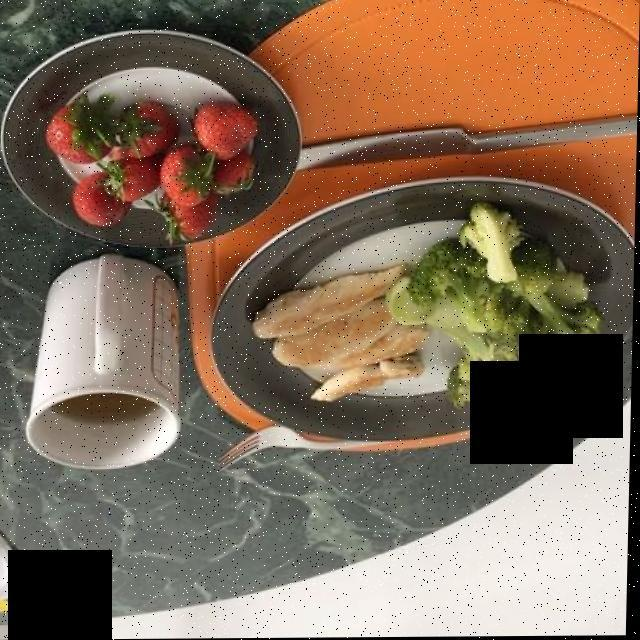broccoli: (401, 207, 595, 405)
chicken: (261, 260, 466, 422)
strawberries: (48, 96, 261, 235)
tea: (48, 374, 165, 428)
